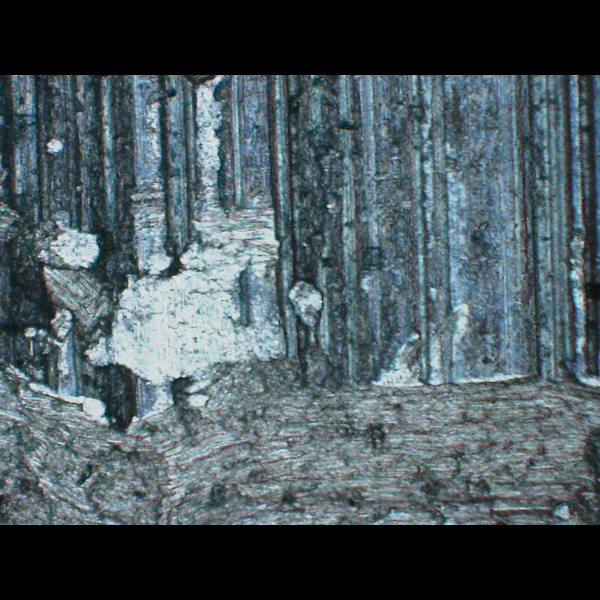d: (0, 358, 597, 525), (0, 141, 343, 386)
